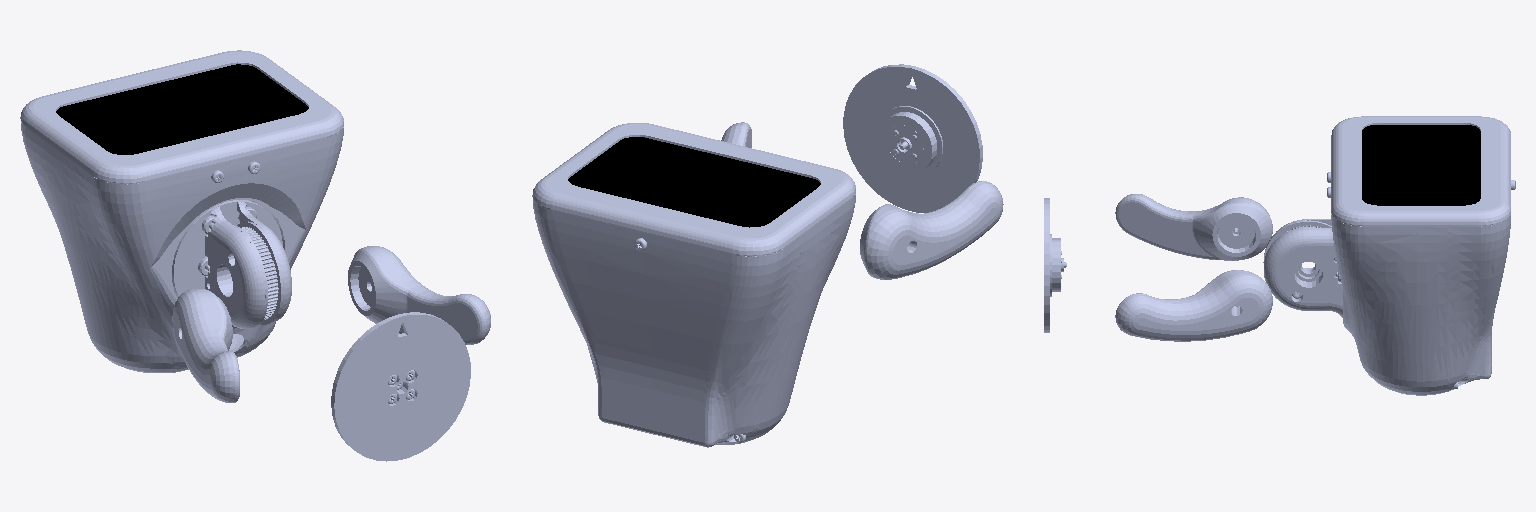
The robot description file, URDF, robot "#M_URDF":
<robot name="#M_URDF">
  <link name="Base">
    <inertial>
      <origin xyz="2.48988292640147E-19 -0.000381986343514737 -0.000120769552909844" rpy="0 0 0" />
      <mass value="0.0172150525280645" />
      <inertia ixx="4.90923271514972E-06" ixy="-3.71175829427805E-25" ixz="-6.4132105050569E-24" iyy="9.75099348291578E-06" iyz="-1.73634556868552E-09" izz="4.97120831120161E-06" />
    </inertial>
    <visual>
      <origin xyz="0 0 0" rpy="0 0 0" />
      <geometry>
        <mesh filename="meshes/Base.STL" />
      </geometry>
      <material name="">
        <color rgba="0.792156862745098 0.819607843137255 0.933333333333333 1" />
      </material>
    </visual>
    <collision>
      <origin xyz="0 0 0" rpy="0 0 0" />
      <geometry>
        <mesh filename="meshes/Base.STL" />
      </geometry>
    </collision>
  </link>
  <link name="Body">
    <inertial>
      <origin xyz="3.68188560942887E-05 0.0522122731743004 -0.00109025669822081" rpy="0 0 0" />
      <mass value="0.301079197417669" />
      <inertia ixx="0.00038749079961539" ixy="-2.82741377831088E-07" ixz="9.52630642376093E-08" iyy="0.000113222469701063" iyz="-1.09840940959666E-05" izz="0.000346482577016864" />
    </inertial>
    <visual>
      <origin xyz="0 0 0" rpy="0 0 0" />
      <geometry>
        <mesh filename="meshes/Body.STL" />
      </geometry>
      <material name="">
        <color rgba="0.792156862745098 0.819607843137255 0.933333333333333 1" />
      </material>
    </visual>
    <collision>
      <origin xyz="0 0 0" rpy="0 0 0" />
      <geometry>
        <mesh filename="meshes/Body.STL" />
      </geometry>
    </collision>
  </link>
  <joint name="BR" type="continuous">
    <origin xyz="0 0.01 0" rpy="0 0 0" />
    <parent link="Base" />
    <child link="Body" />
    <axis xyz="0 1 0" />
  <limit effort="100" velocity="1.0" lower="-3.14" upper="3.14" /></joint>
  <link name="Neck">
    <inertial>
      <origin xyz="1.82851050531566E-06 0.0117870748098477 0.000149662872534281" rpy="0 0 0" />
      <mass value="0.0665890089195563" />
      <inertia ixx="1.56547549552786E-05" ixy="-4.88288987300805E-09" ixz="-2.96684299388073E-08" iyy="1.59459636554017E-05" iyz="1.75733192198039E-07" izz="9.76556713072966E-06" />
    </inertial>
    <visual>
      <origin xyz="0 0 0" rpy="0 0 0" />
      <geometry>
        <mesh filename="meshes/Neck.STL" />
      </geometry>
      <material name="">
        <color rgba="0.792156862745098 0.819607843137255 0.933333333333333 1" />
      </material>
    </visual>
    <collision>
      <origin xyz="0 0 0" rpy="0 0 0" />
      <geometry>
        <mesh filename="meshes/Neck.STL" />
      </geometry>
    </collision>
  </link>
  <joint name="HK" type="continuous">
    <origin xyz="0 0.1335 0" rpy="0 0 0" />
    <parent link="Body" />
    <child link="Neck" />
    <axis xyz="1 0 0" />
  <limit effort="100" velocity="1.0" lower="-3.14" upper="3.14" /></joint>
  <link name="Head">
    <inertial>
      <origin xyz="-1.69707604478788E-05 0.022923532368001 0.0192496022024219" rpy="0 0 0" />
      <mass value="0.248395513826935" />
      <inertia ixx="0.000232413946547103" ixy="1.11365965126332E-08" ixz="-2.44983525731429E-08" iyy="0.000339283648202534" iyz="8.8219258916185E-06" izz="0.000312324947571492" />
    </inertial>
    <visual>
      <origin xyz="0 0 0" rpy="0 0 0" />
      <geometry>
        <mesh filename="meshes/Head.STL" />
      </geometry>
      <material name="">
        <color rgba="0.792156862745098 0.819607843137255 0.933333333333333 1" />
      </material>
    </visual>
    <collision>
      <origin xyz="0 0 0" rpy="0 0 0" />
      <geometry>
        <mesh filename="meshes/Head.STL" />
      </geometry>
    </collision>
  </link>
  <joint name="HR" type="continuous">
    <origin xyz="0 0.0370884572681199 0" rpy="0 0 0" />
    <parent link="Neck" />
    <child link="Head" />
    <axis xyz="0 1 0" />
  <limit effort="100" velocity="1.0" lower="-3.14" upper="3.14" /></joint>
  <link name="Right_Arm">
    <inertial>
      <origin xyz="-0.0145222332639852 -0.0182893735486157 -0.00285061290168179" rpy="0 0 0" />
      <mass value="0.0335568583065499" />
      <inertia ixx="1.84120710567895E-05" ixy="-4.702802725976E-06" ixz="-2.3177099839779E-07" iyy="4.54819504595918E-06" iyz="-6.43220947711984E-07" izz="1.82957929733706E-05" />
    </inertial>
    <visual>
      <origin xyz="0 0 0" rpy="0 0 0" />
      <geometry>
        <mesh filename="meshes/Right_Arm.STL" />
      </geometry>
      <material name="">
        <color rgba="0.792156862745098 0.819607843137255 0.933333333333333 1" />
      </material>
    </visual>
    <collision>
      <origin xyz="0 0 0" rpy="0 0 0" />
      <geometry>
        <mesh filename="meshes/Right_Arm.STL" />
      </geometry>
    </collision>
  </link>
  <joint name="RA" type="continuous">
    <origin xyz="-0.04125 0.09365 0" rpy="0 0 0" />
    <parent link="Body" />
    <child link="Right_Arm" />
    <axis xyz="-1 0 0" />
  <limit effort="100" velocity="1.0" lower="-3.14" upper="3.14" /></joint>
  <link name="Left_Arm">
    <inertial>
      <origin xyz="0.0145222302864002 -0.0182893396472853 -0.00285028055727338" rpy="0 0 0" />
      <mass value="0.0335578597315161" />
      <inertia ixx="1.84122972735832E-05" ixy="4.70298050506963E-06" ixz="2.31744258694691E-07" iyy="4.54847884424944E-06" iyz="-6.4328922806994E-07" izz="1.82958537835698E-05" />
    </inertial>
    <visual>
      <origin xyz="0 0 0" rpy="0 0 0" />
      <geometry>
        <mesh filename="meshes/Left_Arm.STL" />
      </geometry>
      <material name="">
        <color rgba="0.792156862745098 0.819607843137255 0.933333333333333 1" />
      </material>
    </visual>
    <collision>
      <origin xyz="0 0 0" rpy="0 0 0" />
      <geometry>
        <mesh filename="meshes/Left_Arm.STL" />
      </geometry>
    </collision>
  </link>
  <joint name="LA" type="continuous">
    <origin xyz="0.04125 0.09365 0" rpy="0 0 0" />
    <parent link="Body" />
    <child link="Left_Arm" />
    <axis xyz="-1 0 0" />
  <limit effort="100" velocity="1.0" lower="-3.14" upper="3.14" /></joint>
<link name="screen_panel"><visual><origin xyz="0 0 0" rpy="0 0 0" /><geometry><box size="0.12 0.08 0.001" /></geometry><material name="screen"><color rgba="0 0 0 1" /></material></visual></link><joint name="screen_to_head" type="fixed"><parent link="Head" /><child link="screen_panel" /><origin xyz="0 0.025 0.06" rpy="0 0 0" /></joint></robot>

--- Render facts (derived) ---
Views: 3 orthographic renders of the robot side by side, from view 1: azimuth 30°, elevation 25°; view 2: azimuth 150°, elevation 25°; view 3: azimuth 270°, elevation 25°.
Model #M_URDF with 7 links and 6 joints (5 continuous, 1 fixed), rooted at Base, posed all joints at 0.
Links seen in each view (by area): view 1: Head, Base, screen_panel, Neck, Left_Arm, Right_Arm; view 2: Head, Base, screen_panel, Right_Arm, Left_Arm; view 3: Head, screen_panel, Left_Arm, Right_Arm, Neck, Base.
Link boxes in pixels (x1,y1,x2,y2): Head: (20,50,343,372); Base: (331,312,470,461); screen_panel: (56,64,308,154); Neck: (172,200,291,328); Left_Arm: (348,246,490,344); Right_Arm: (172,288,239,402); Head: (532,123,855,447); Base: (843,64,982,212); screen_panel: (568,137,820,227); Right_Arm: (860,181,1003,279); Left_Arm: (721,122,751,147); Head: (1327,116,1515,395); screen_panel: (1362,125,1480,205); Left_Arm: (1115,270,1272,341); Right_Arm: (1115,194,1272,260); Neck: (1263,219,1342,317); Base: (1044,198,1066,332).
Size in the robot's own frame: 0.1508 by 0.2613 by 0.1267 metres.
5 mesh visuals loaded from 6 distinct referenced files (5 binary STL); not drawn: 1 (reference not matched to a file when rendering).